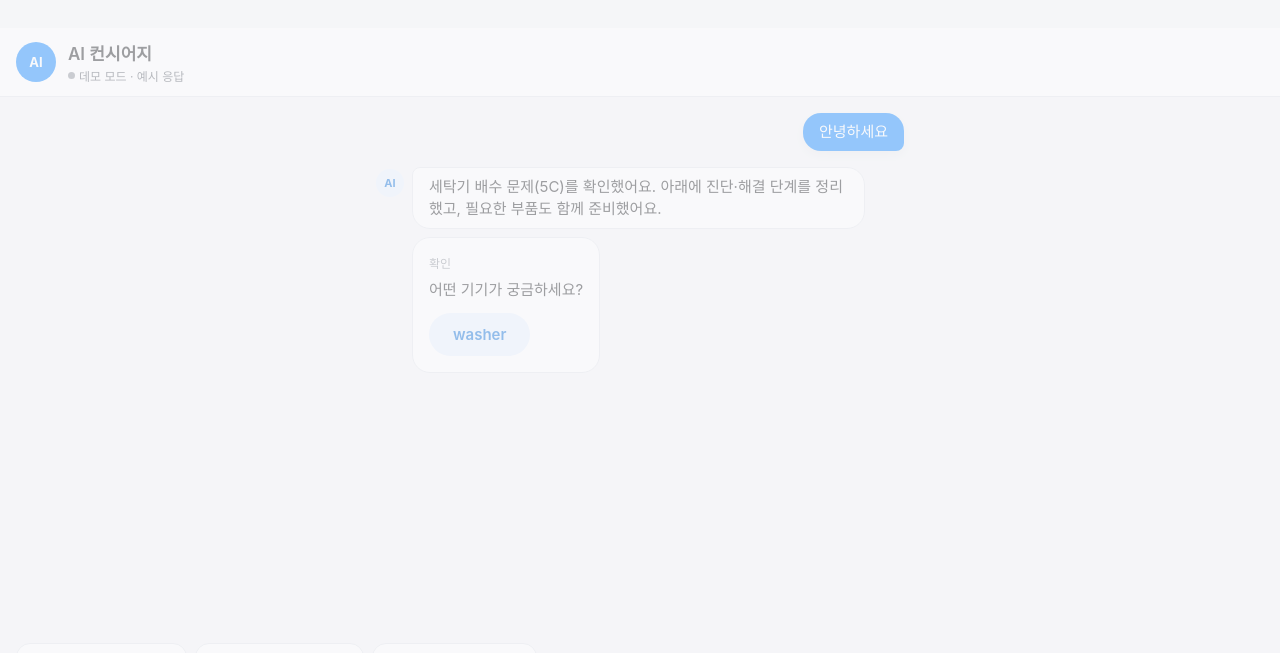
Test: select_device 탭 → 바로 질의 전송(사용자 메시지 등장)
Click the button with test id "cta-select_device": (480, 334) [429,313,530,356]
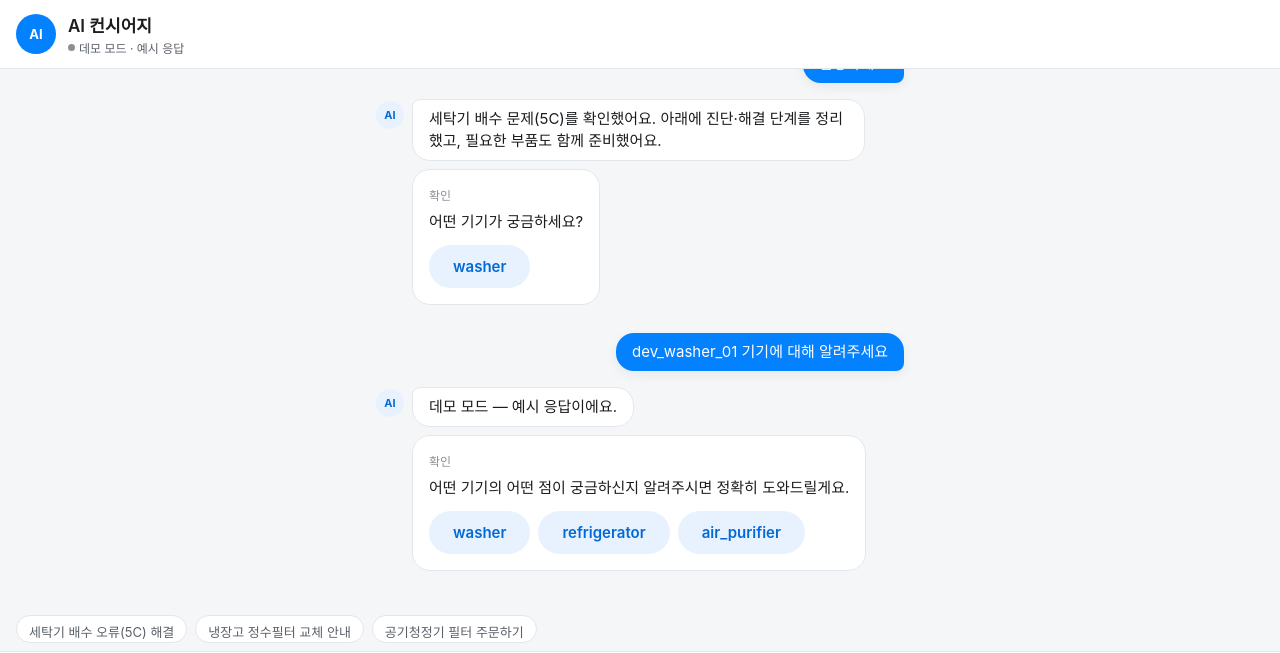
Now the text "dev_washer_01 기기에 대해 알려주세요" is shown, box [632,341,888,363]
